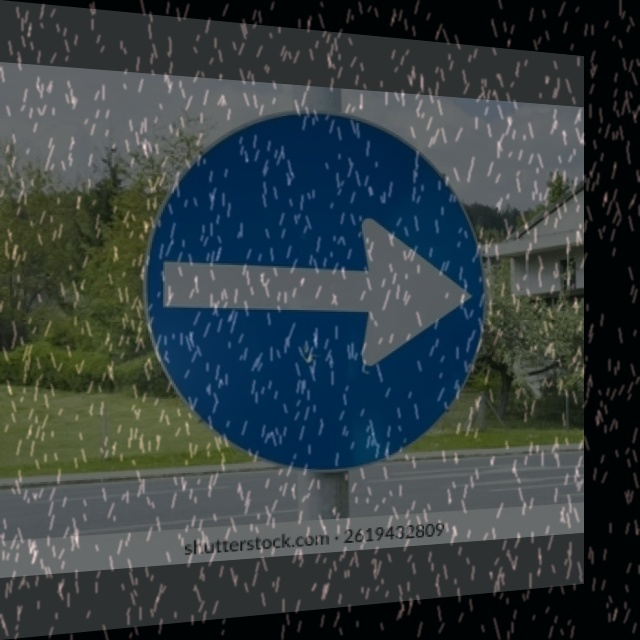Compulsory_Turn_Right: (153, 97, 487, 476)
